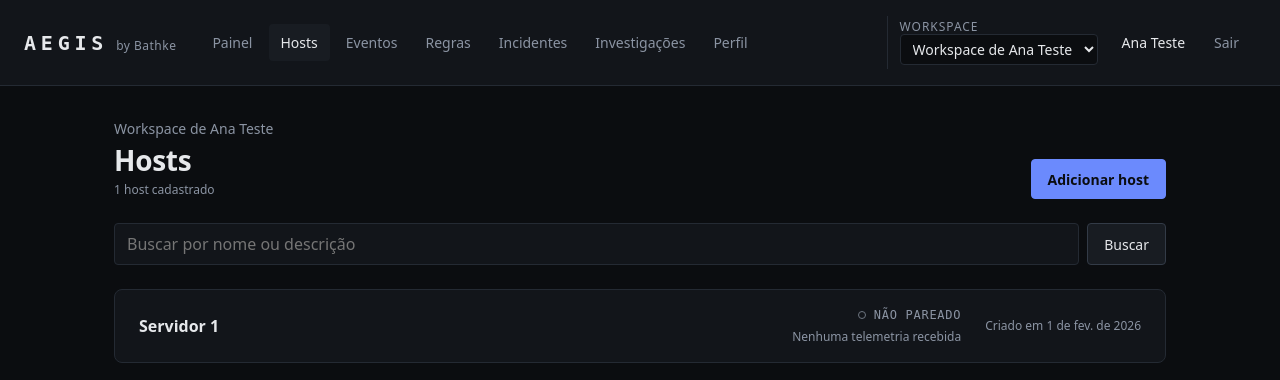
active workspace › switches workspace with the selector and scopes requests to it
Expected: the text "Servidor 1" is shown, x1=139 y1=315 x2=219 y2=337
Select "Workspace Laboratório" in the dropdown labelled "Workspace". click: (999, 50)
box: x1=900 y1=34 x2=1098 y2=65
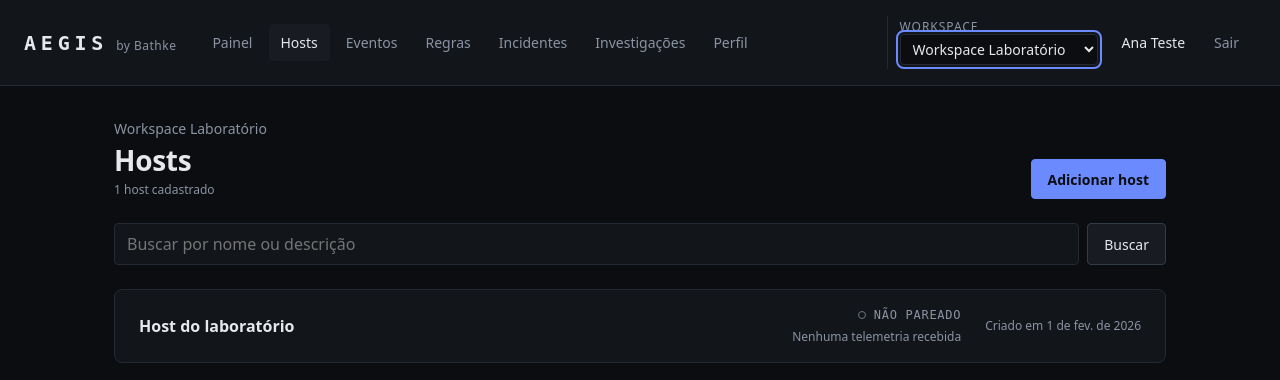
Result: the text "Host do laboratório" is shown at x1=139 y1=315 x2=294 y2=337
Result: the link "Servidor 1" is gone
